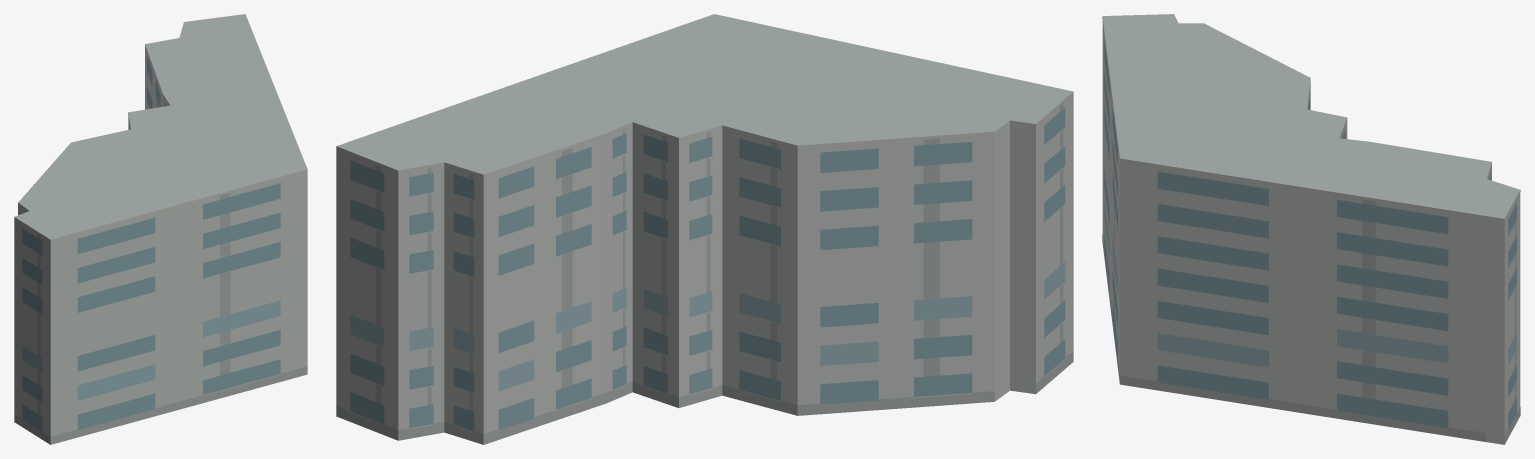
File: residential-fc38ac70-e5f5-4bd5-9b0e-12e95546dc1f.glb
3 views of the same model, side by side, from view 1: azimuth 30°, elevation 25°; view 2: azimuth 150°, elevation 25°; view 3: azimuth 270°, elevation 25° (orthographic). The views are drawn at different scales.
Visible parts, largest first — view 1: residential-fc38ac70-e5f5-4bd5-9b0e-12e95546dc1f.tmp; view 2: residential-fc38ac70-e5f5-4bd5-9b0e-12e95546dc1f.tmp; view 3: residential-fc38ac70-e5f5-4bd5-9b0e-12e95546dc1f.tmp.
Boxes of the visible parts, left/top/right/bottom form: residential-fc38ac70-e5f5-4bd5-9b0e-12e95546dc1f.tmp: left=14, top=14, right=307, bottom=444; residential-fc38ac70-e5f5-4bd5-9b0e-12e95546dc1f.tmp: left=336, top=14, right=1073, bottom=444; residential-fc38ac70-e5f5-4bd5-9b0e-12e95546dc1f.tmp: left=1102, top=14, right=1520, bottom=444.
Size of the model in its own units: 41.51 by 21.35 by 35.79.
